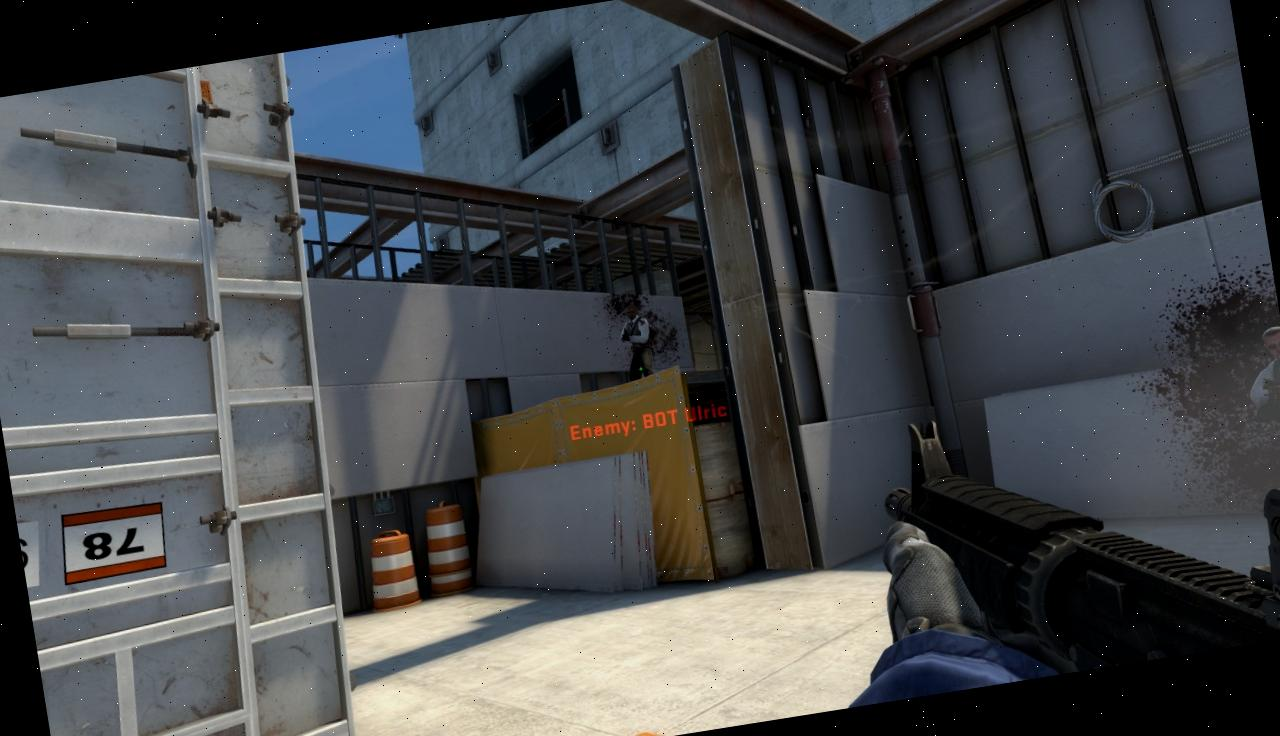rifle: (867, 358, 1280, 697)
tt: (616, 303, 658, 381)
tthead: (624, 305, 638, 320)
